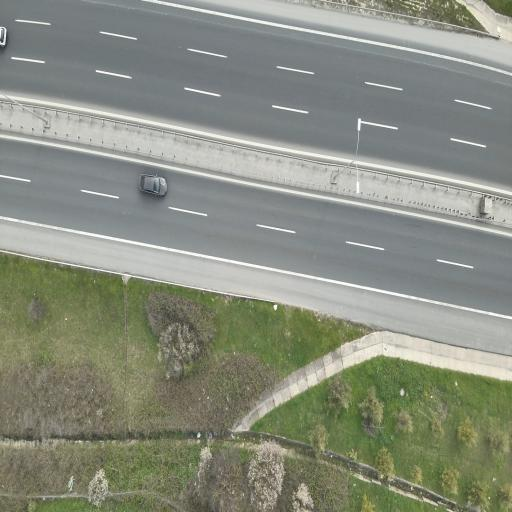car: (140, 174, 166, 195), (0, 27, 6, 46)
